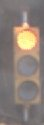Red: (7, 20, 39, 122)
